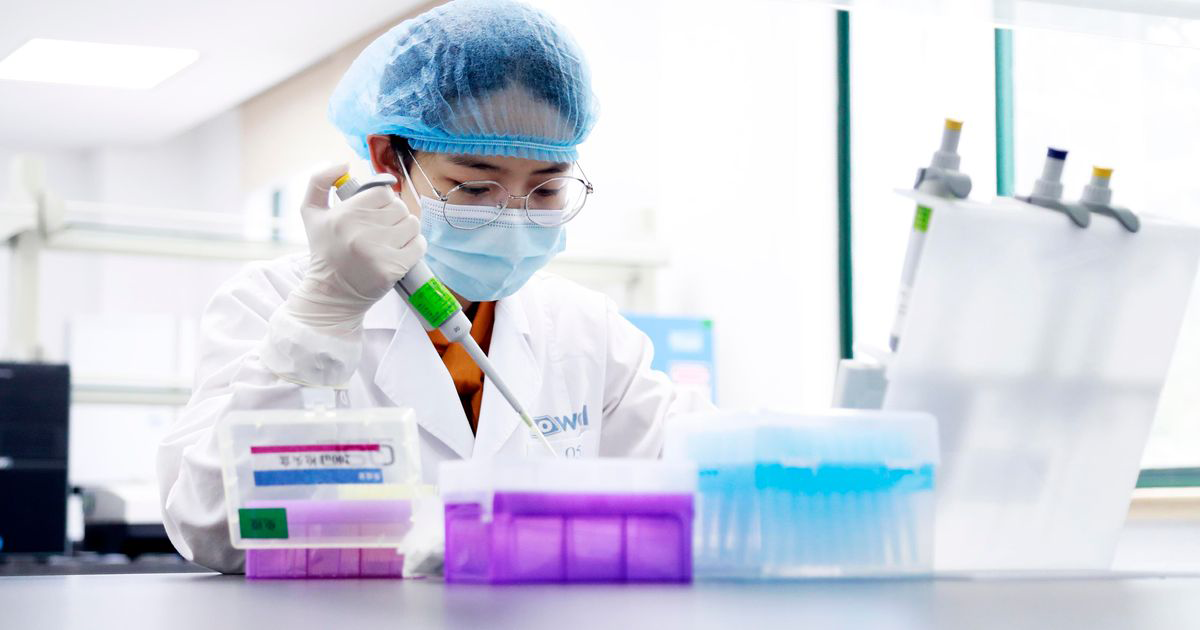Gloves: (296, 161, 424, 330)
with_mask: (415, 176, 570, 306)
